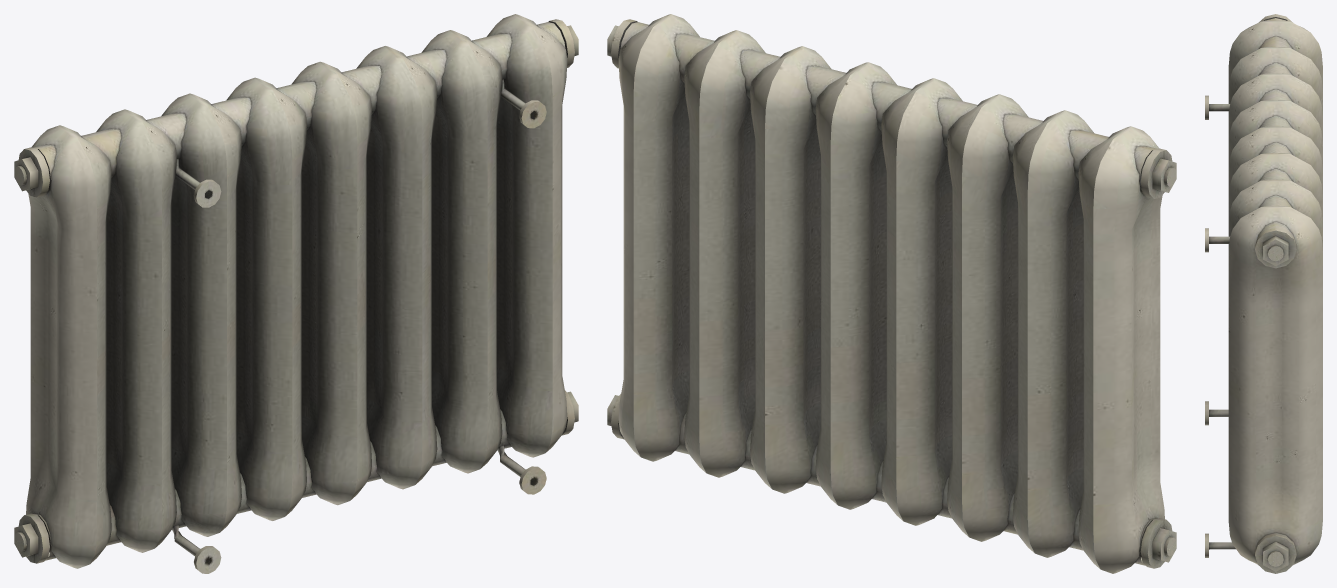
File: rad_8_bare_web.glb
3 renders of one model, left to right at view 1: azimuth 30°, elevation 25°; view 2: azimuth 150°, elevation 25°; view 3: azimuth 270°, elevation 25°, orthographic. The views are drawn at different scales.
Visible parts, largest first — view 1: Rad8Bare_Body; view 2: Rad8Bare_Body; view 3: Rad8Bare_Body.
Part boxes in pixels (bbox=[...]): Rad8Bare_Body: bbox=[14, 14, 578, 573]; Rad8Bare_Body: bbox=[607, 14, 1176, 573]; Rad8Bare_Body: bbox=[1205, 14, 1322, 573].
Bounding box in the file's own units: 0.792 × 0.594 × 0.175.
Materials: 1 (1 with a texture image).
